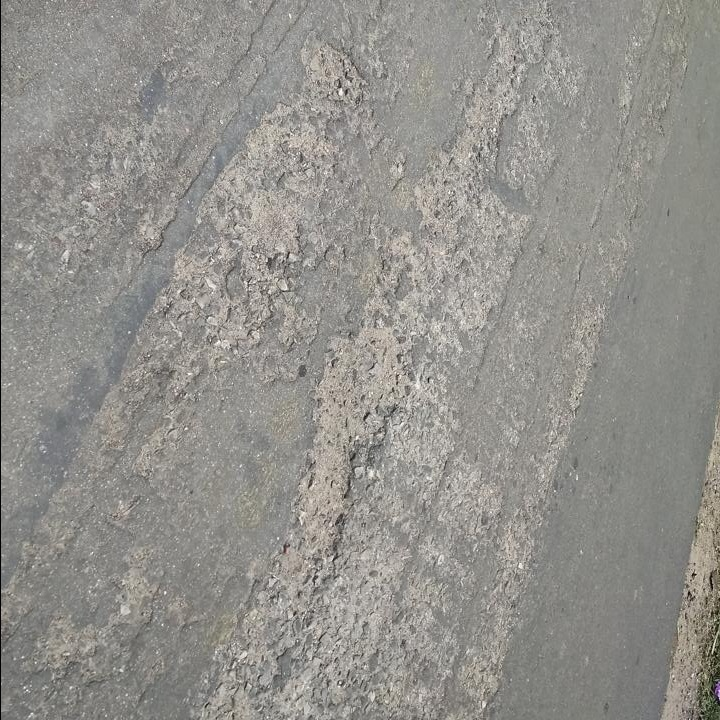pothole: (288, 319, 411, 562), (418, 79, 524, 240), (304, 36, 367, 111)
